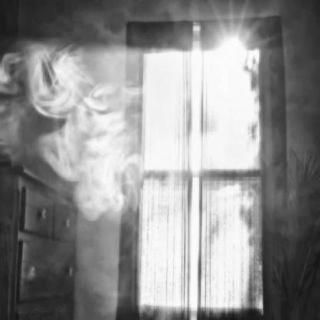other: (202, 27, 252, 103)
